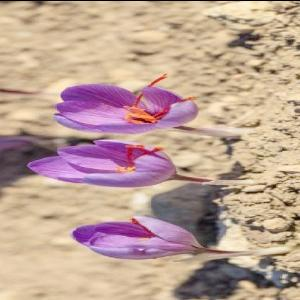Saffron: (52, 82, 209, 134), (28, 139, 188, 187), (70, 216, 212, 256)
